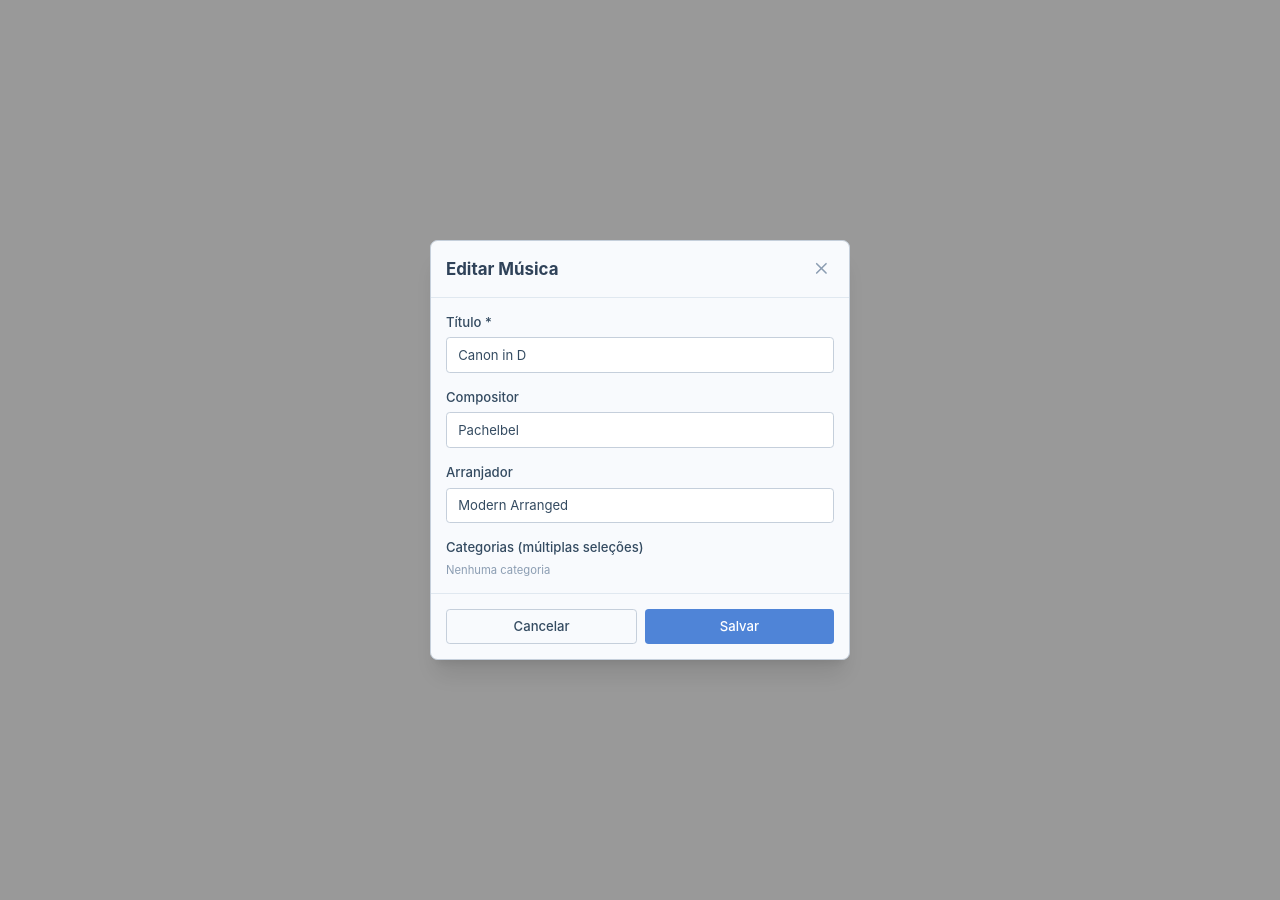
it: EditMusicModal › should show error when title is empty
The image size is (1280, 900).
Clear the field showing "Canon in D" below "Título" at (640, 355), box 446,337 -> 834,373
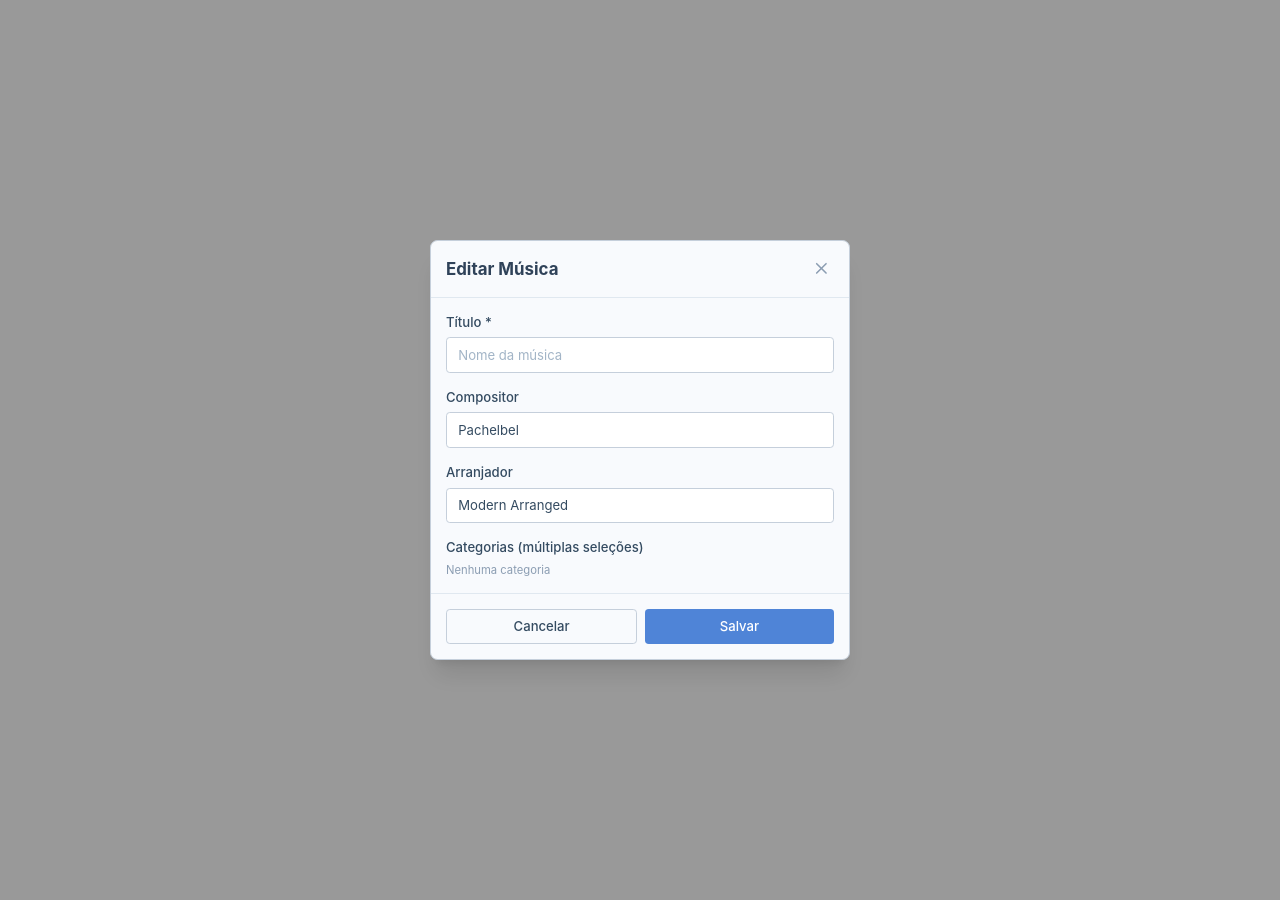
Click the button "Salvar".
click(739, 626)  # box 645,609 -> 834,644
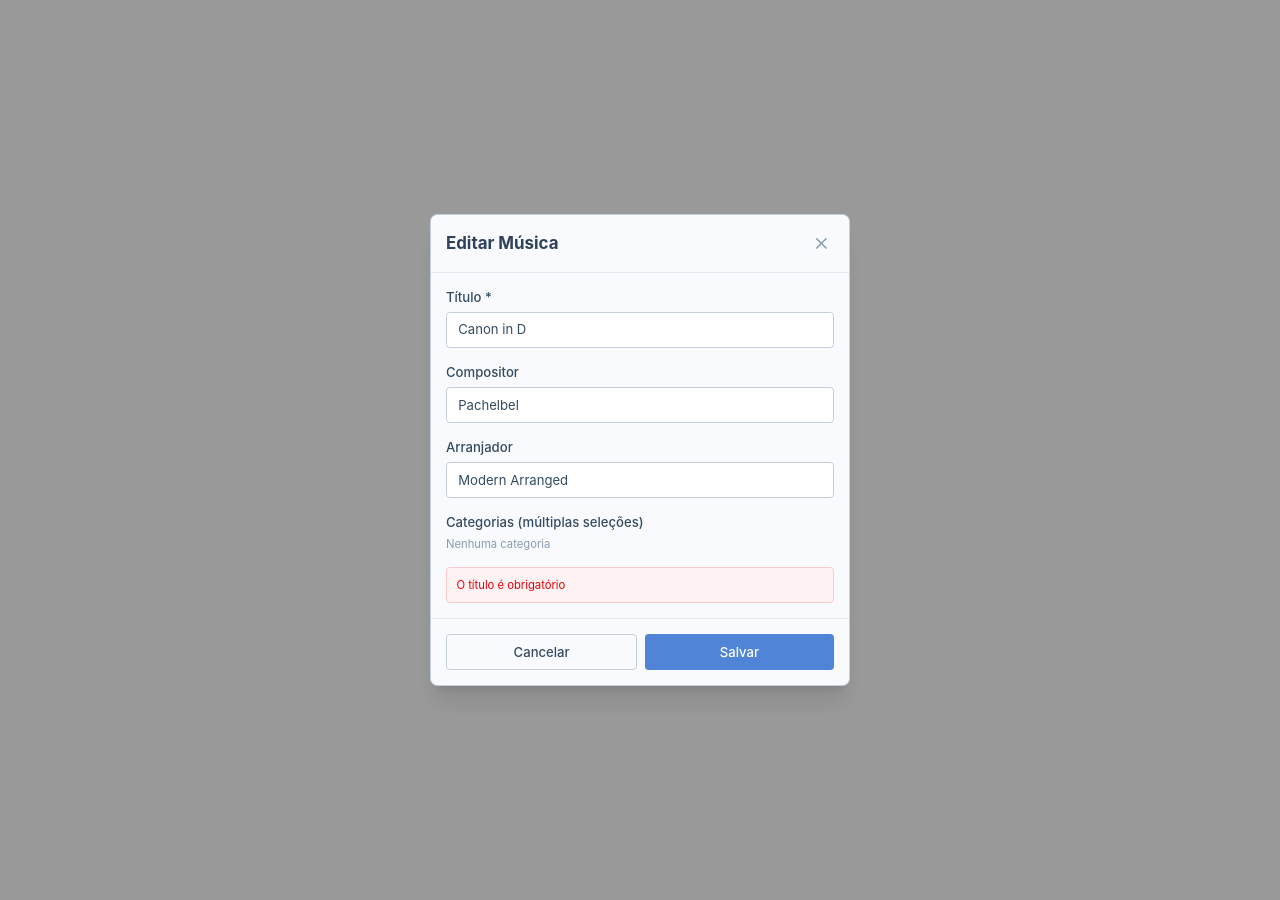
Now the text "O título é obrigatório" is shown, box 456,578 -> 565,592
